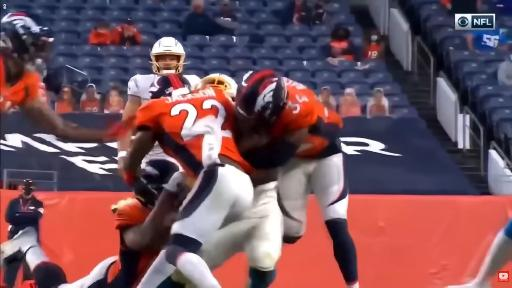Helmet: (0, 13, 53, 67), (236, 70, 287, 123), (134, 159, 179, 208), (151, 37, 185, 74), (150, 74, 189, 99), (200, 74, 237, 99), (241, 70, 253, 86)
Jersey: (136, 87, 250, 178), (271, 78, 340, 157), (107, 198, 159, 287), (271, 78, 318, 137), (296, 101, 342, 157), (0, 57, 40, 110), (128, 74, 161, 103)
Player: (236, 71, 358, 287), (125, 87, 253, 287), (0, 160, 185, 287), (0, 13, 131, 142), (107, 159, 185, 287), (201, 172, 282, 287), (123, 37, 199, 119), (447, 220, 511, 287), (198, 74, 237, 100)
